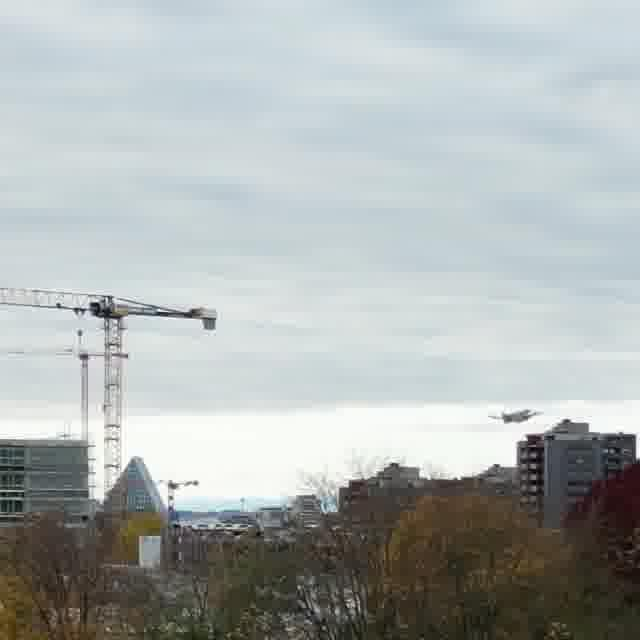Drohne: (489, 409, 541, 423)
